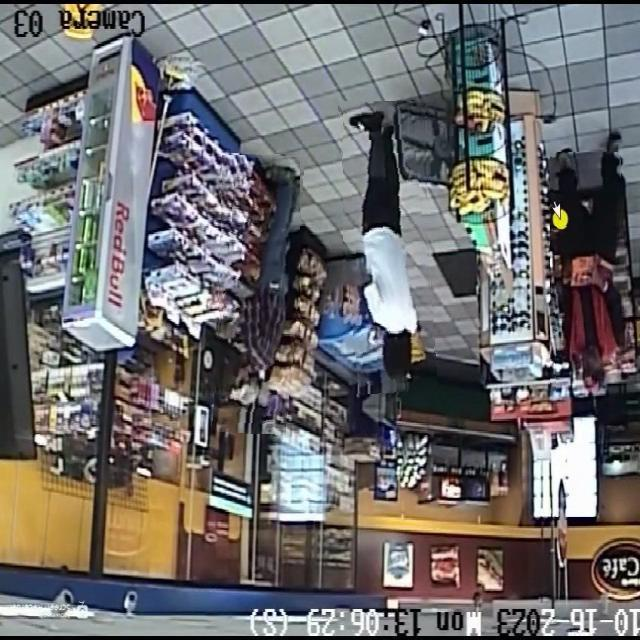Normal: (343, 101, 433, 394), (216, 154, 300, 434), (550, 152, 624, 396)
